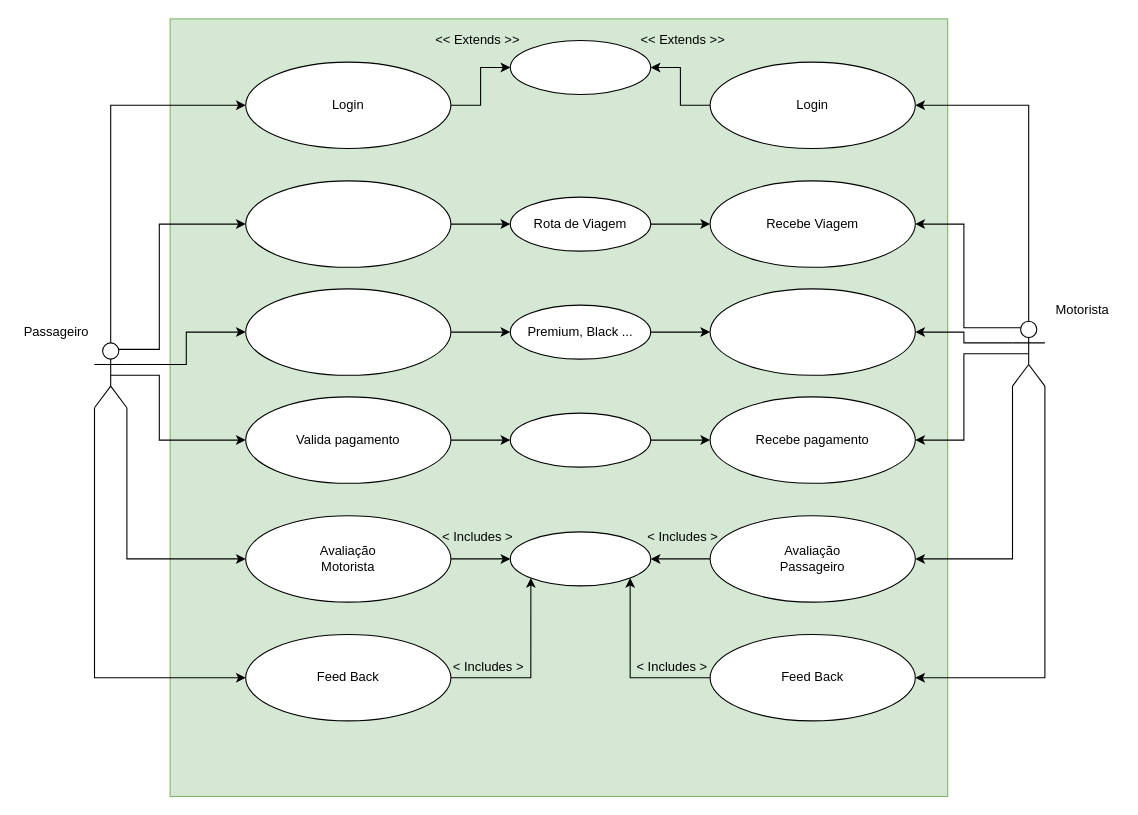
Some shapes in this 1138 by 815 pixel diagram are drawn without their labels. The shapes that lost their labels are listed below. From the top down, each one's centre as x and y in pixels, then its label:
point 580,66: Valida BD
point 348,223: Pedido Viagem
point 348,331: Tipo de Viagem
point 812,331: Tipo de "Uber"
point 580,439: Tipo pagamento
point 580,558: Avaliação
